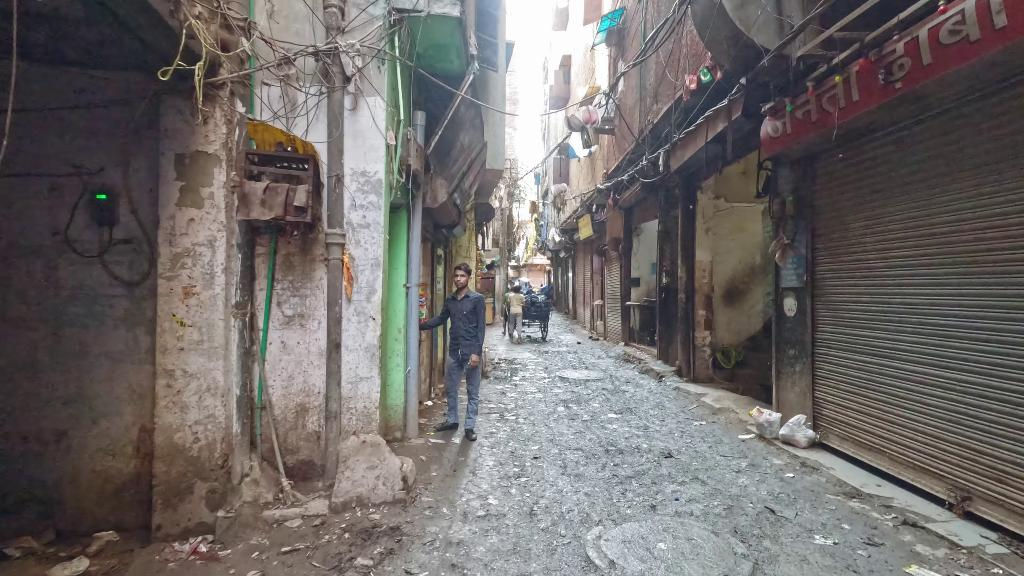garbage: (741, 400, 821, 463)
